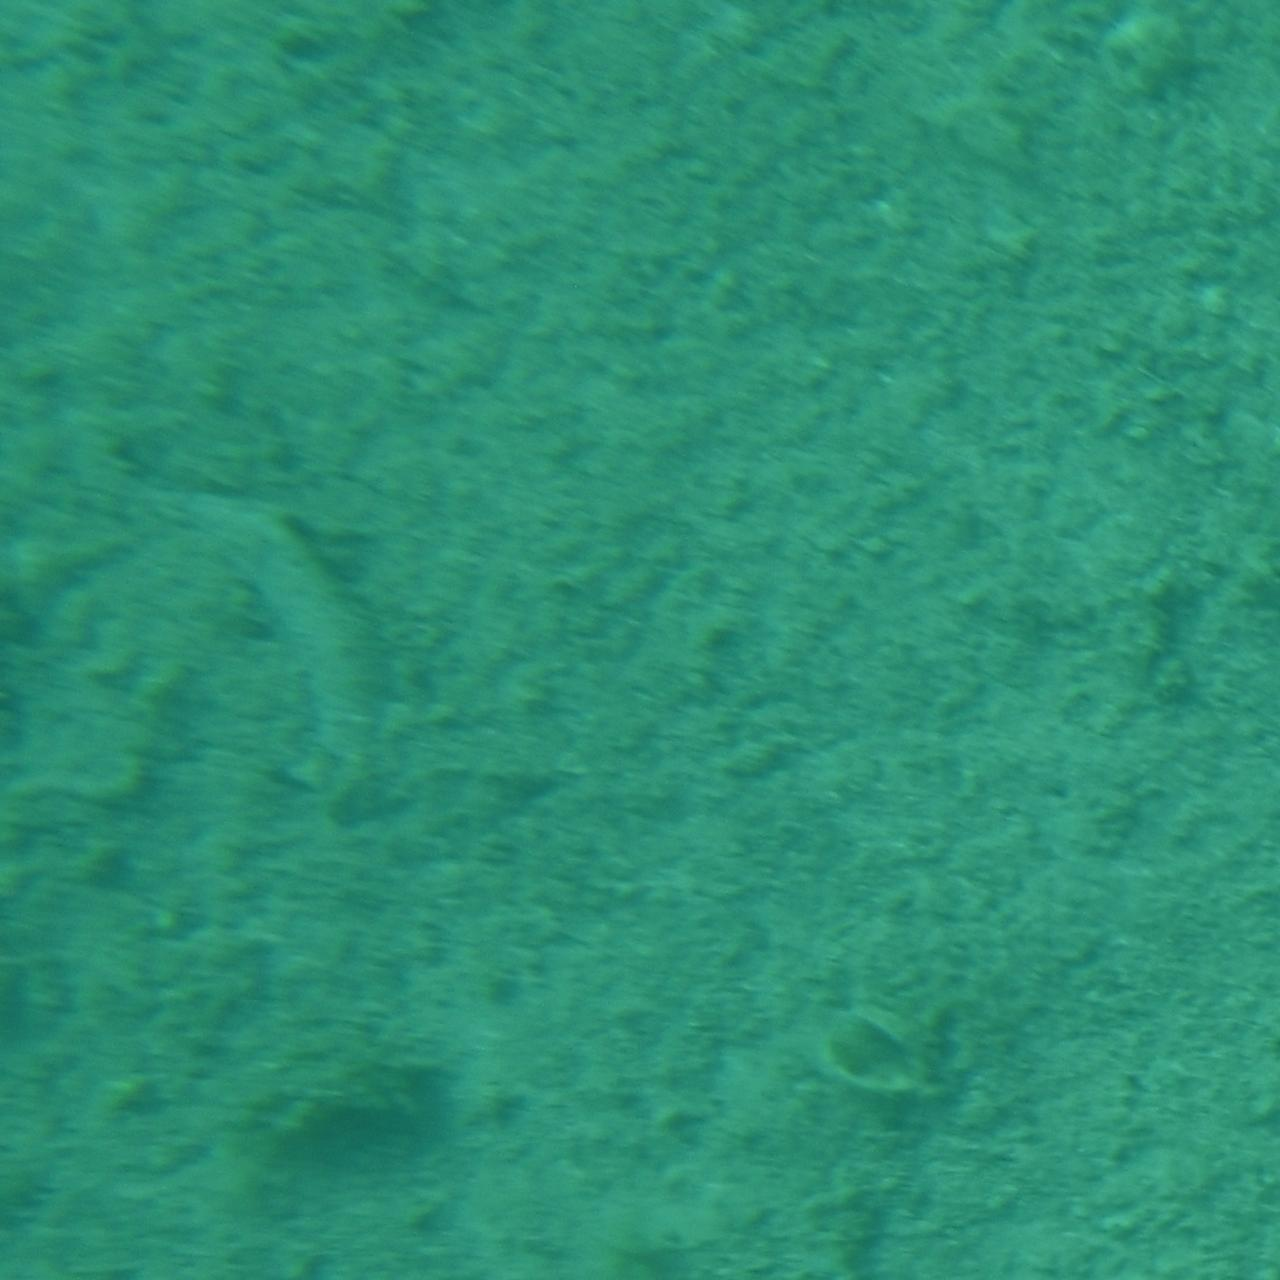Holothuria tubulosa: (120, 488, 408, 792)
